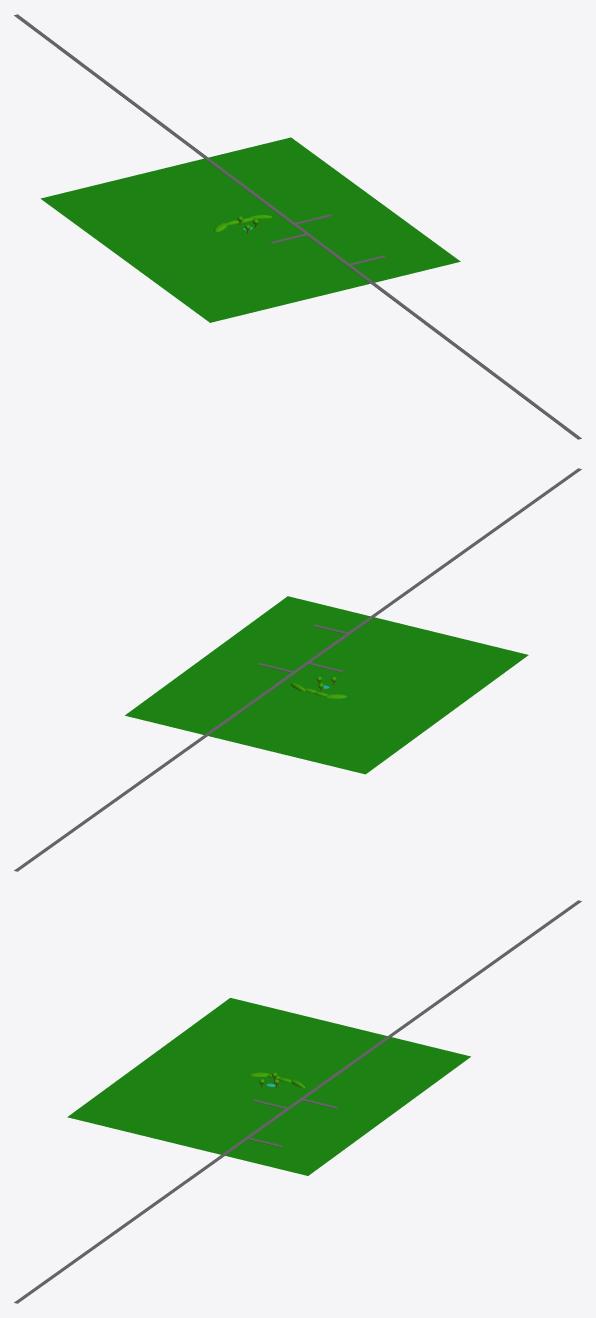
File: outside.glb
The picture shows the model from 3 angles, top to bottom: view 1: azimuth 30°, elevation 25°; view 2: azimuth 150°, elevation 25°; view 3: azimuth 330°, elevation 25°; orthographic projection. The views are drawn at different scales.
Parts seen in each view (by area): view 1: Grass, Road; view 2: Grass, Road; view 3: Grass, Road.
Part boxes in pixels (box(x1,y1,x2,y2)): Grass: box(40, 137, 460, 322); Road: box(14, 14, 581, 439); Grass: box(125, 596, 528, 774); Road: box(14, 468, 581, 871); Grass: box(67, 998, 470, 1175); Road: box(14, 900, 581, 1303).
Size of the model in its own units: 403 by 17.47 by 1601.
